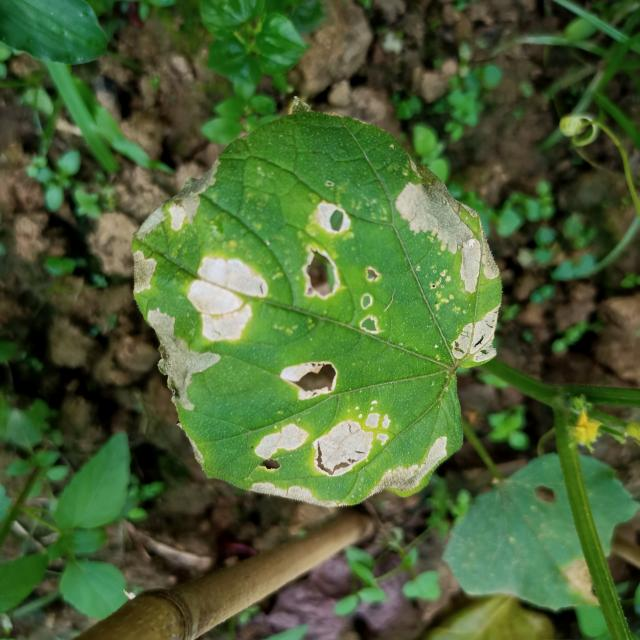disease_cucumber: (109, 176, 387, 400), (248, 358, 460, 507), (393, 154, 506, 370)
